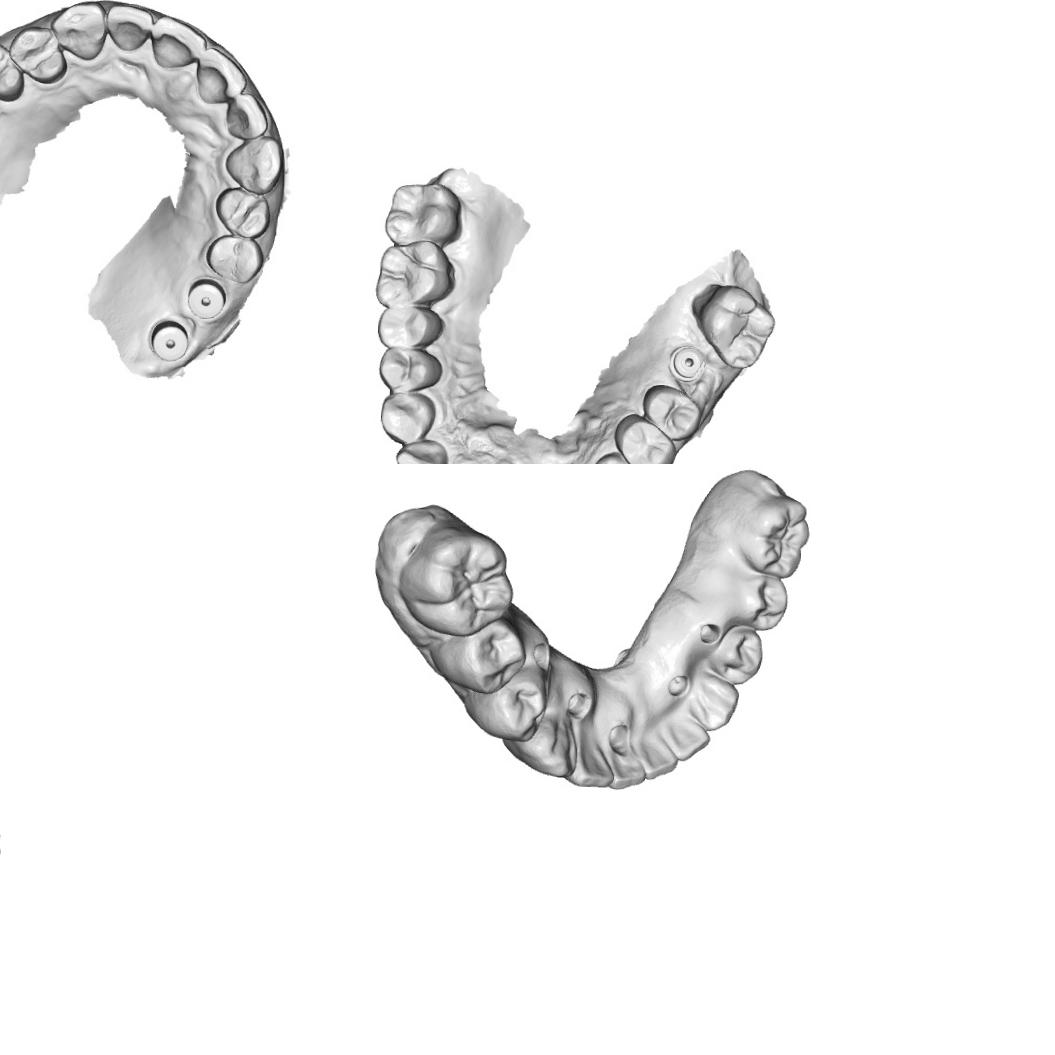canine: (514, 712, 576, 777), (47, 0, 108, 63), (222, 134, 284, 195), (375, 390, 438, 447), (684, 675, 741, 734), (584, 449, 643, 464)
implant: (184, 276, 228, 322), (148, 318, 190, 362), (666, 344, 708, 384)
incisor: (194, 46, 248, 106), (148, 15, 206, 70), (567, 730, 616, 790), (105, 0, 155, 50), (660, 720, 712, 763), (224, 92, 270, 140), (640, 732, 684, 780), (606, 746, 648, 790), (394, 436, 450, 464)
molar: (397, 524, 516, 638), (689, 281, 778, 370), (372, 236, 458, 310), (739, 495, 812, 578), (382, 179, 464, 250)
premolar: (454, 621, 524, 692), (482, 670, 547, 740), (732, 566, 792, 632), (640, 382, 703, 442), (8, 24, 68, 86), (611, 412, 678, 464), (376, 345, 444, 394), (713, 621, 765, 684), (213, 185, 272, 240), (376, 304, 444, 350), (204, 234, 266, 284), (0, 39, 25, 102)
